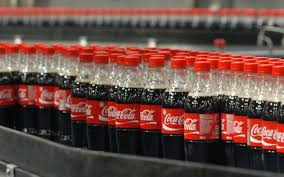coke-bottle-700ml: (183, 60, 223, 165), (137, 57, 163, 155), (113, 58, 137, 153), (160, 64, 183, 158), (86, 60, 109, 149), (246, 65, 264, 169), (33, 47, 52, 140), (232, 65, 247, 166)
